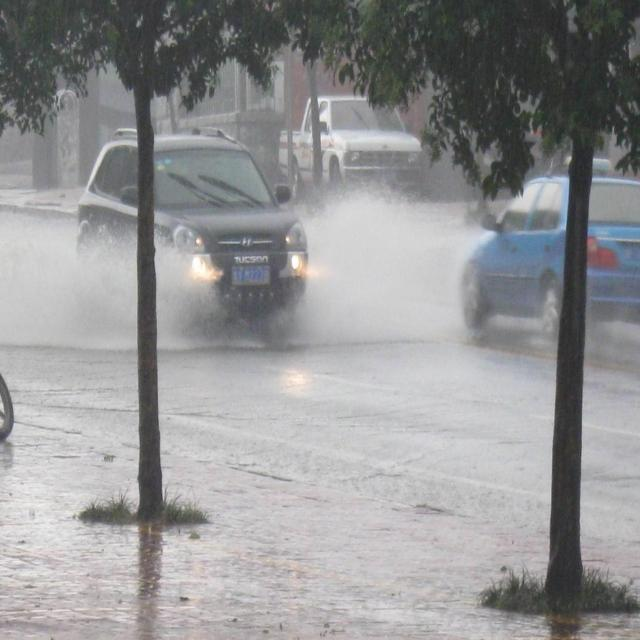car: (76, 121, 306, 342), (461, 156, 640, 334), (277, 95, 424, 201)
